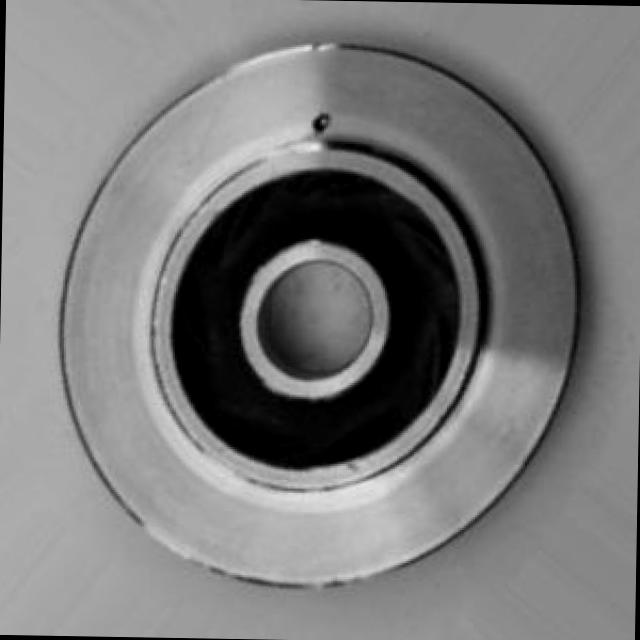Defect: (308, 105, 332, 140)
